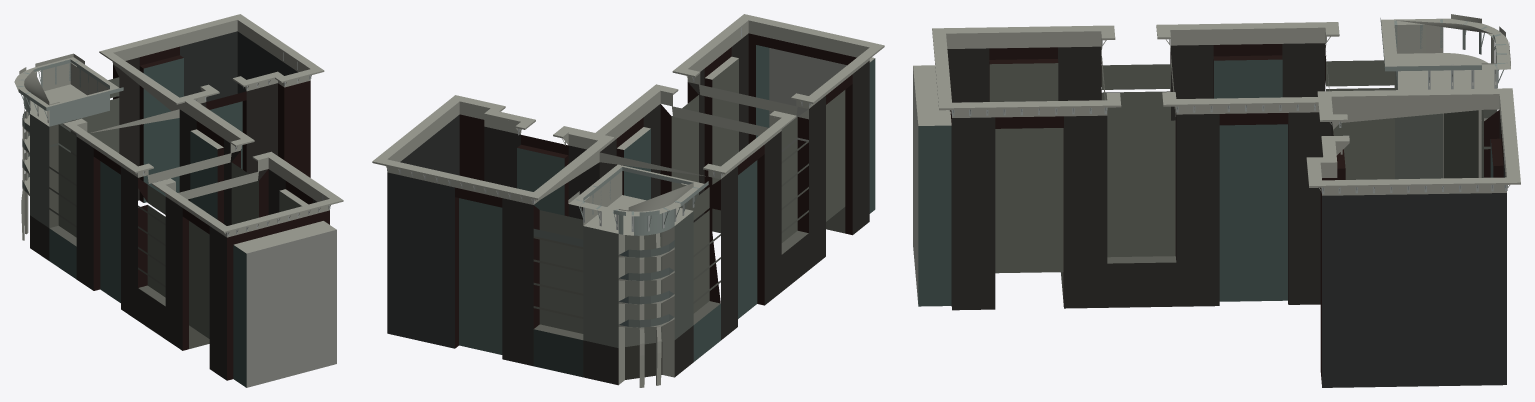
File: hampton-inn-suites-chattanooga-tn.glb
The picture shows the model from 3 angles, left to right: view 1: azimuth 30°, elevation 25°; view 2: azimuth 150°, elevation 25°; view 3: azimuth 270°, elevation 25°; orthographic projection. The views are drawn at different scales.
Visible parts, largest first — view 1: LOD0; view 2: LOD0; view 3: LOD0.
Boxes of the visible parts, left/top/right/bottom form: LOD0: left=14, top=14, right=343, bottom=387; LOD0: left=372, top=14, right=884, bottom=387; LOD0: left=913, top=14, right=1520, bottom=387.
Size of what is drawn, in the model's own units: 42.96 by 25.86 by 66.58.
Materials: 2 (2 with a texture image).
